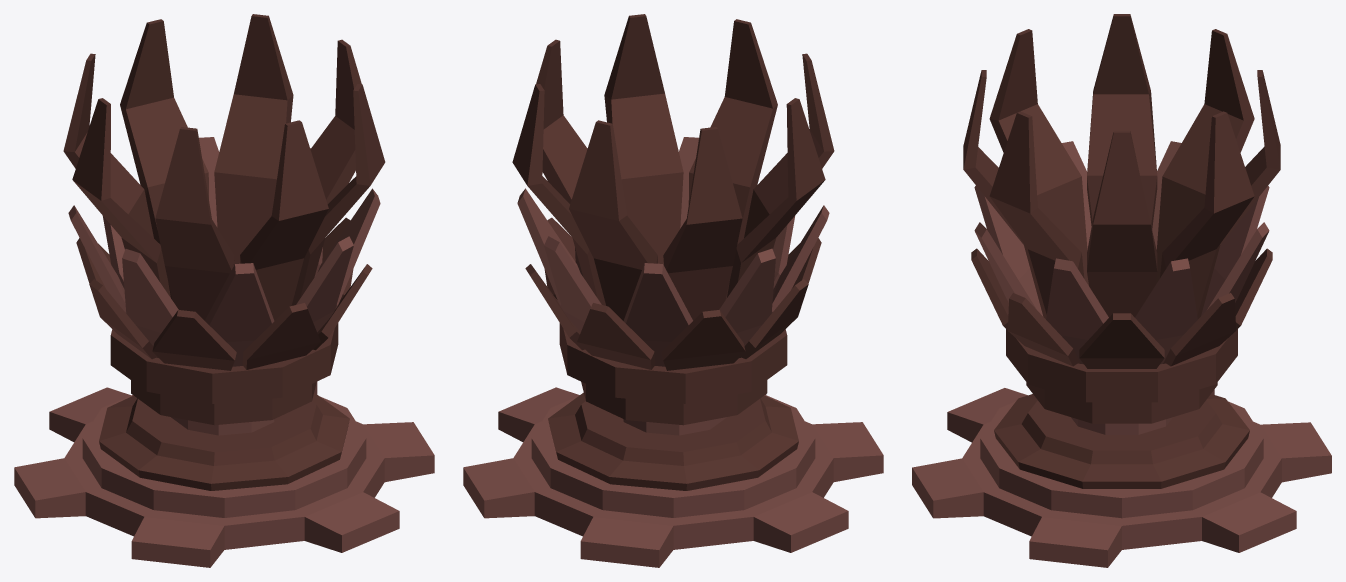
The model's file is teleporter3.glb.
3 views of the same model, side by side, from view 1: azimuth 30°, elevation 25°; view 2: azimuth 150°, elevation 25°; view 3: azimuth 270°, elevation 25° (orthographic).
Parts seen in each view (by area): view 1: _MeshInstance3D_216, _MeshInstance3D_215; view 2: _MeshInstance3D_216, _MeshInstance3D_215; view 3: _MeshInstance3D_216, _MeshInstance3D_215.
Boxes of the visible parts, x1=… form: _MeshInstance3D_216: x1=63, y1=14, x2=385, y2=370; _MeshInstance3D_215: x1=14, y1=323, x2=434, y2=567; _MeshInstance3D_216: x1=512, y1=14, x2=834, y2=370; _MeshInstance3D_215: x1=463, y1=323, x2=883, y2=567; _MeshInstance3D_216: x1=963, y1=14, x2=1280, y2=368; _MeshInstance3D_215: x1=912, y1=329, x2=1331, y2=567.
Bounding box in the file's own units: 1.38 × 1.48 × 1.38.
